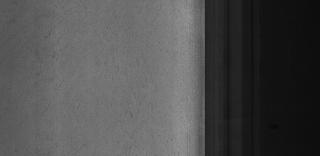silk spot: (116, 55, 152, 132)
